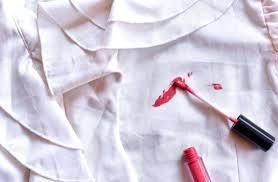kimchi: (162, 76, 183, 97), (151, 93, 181, 107), (208, 81, 225, 92), (185, 71, 194, 78)
